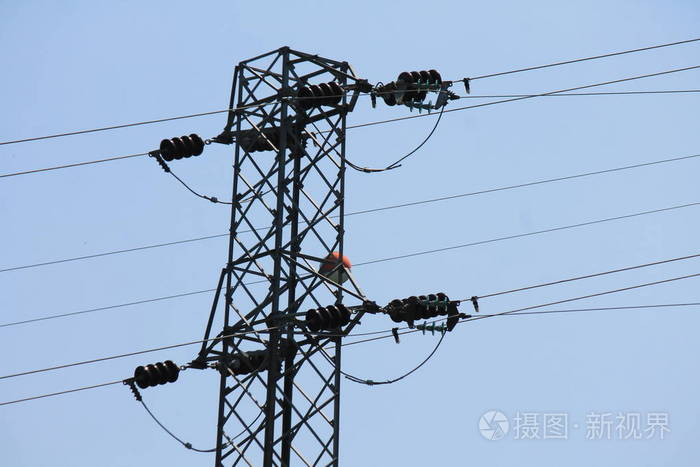insulator: (388, 291, 452, 322), (307, 302, 352, 332), (134, 361, 177, 391), (293, 81, 342, 106), (160, 133, 203, 159), (399, 66, 443, 89), (418, 320, 451, 336), (408, 99, 434, 116)
